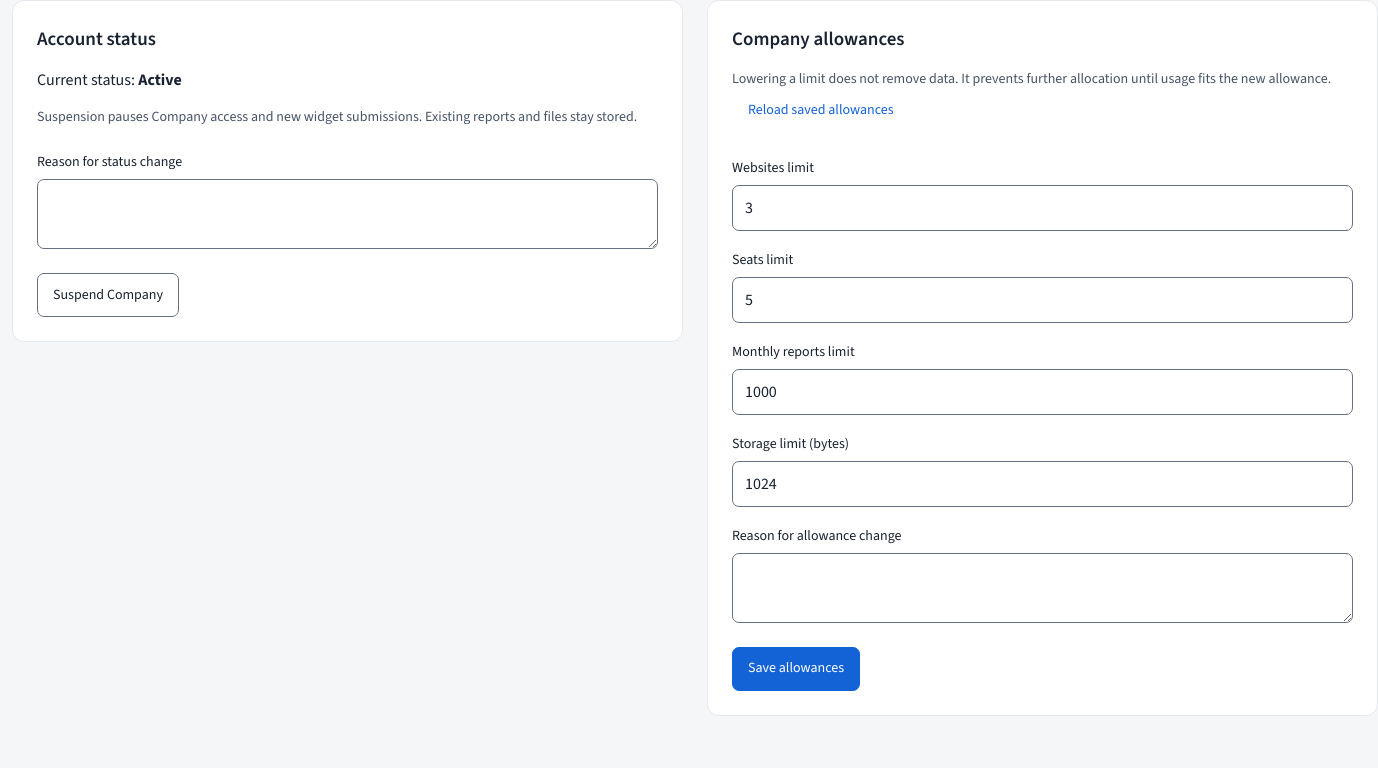
Test case: suspends and reactivates with audited reasons and server versions
Type "Abuse investigation" into the text box labelled "Reason for status change".
click(348, 214); type("Abuse investigation")  # box x1=37 y1=179 x2=658 y2=249
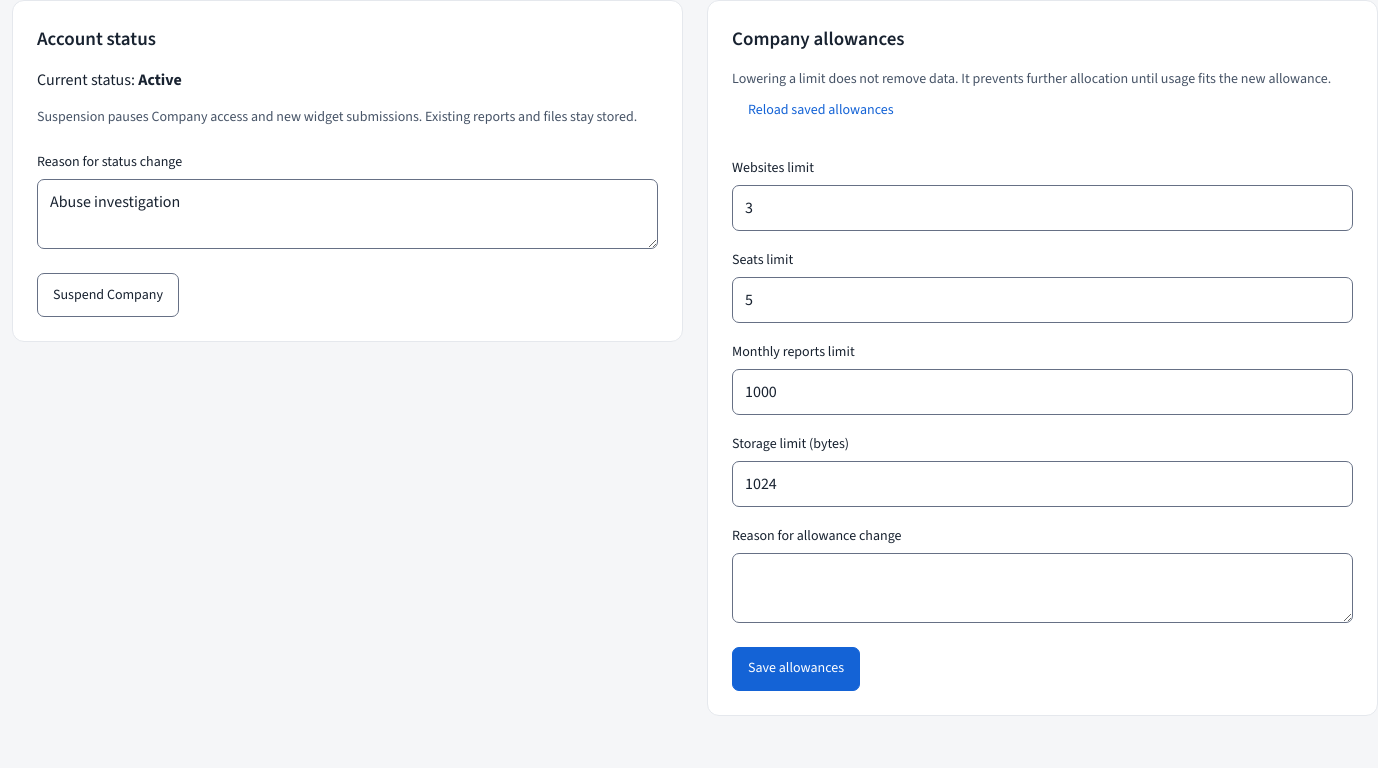
Click the button "Suspend Company".
click(108, 295)  # box x1=37 y1=273 x2=179 y2=317
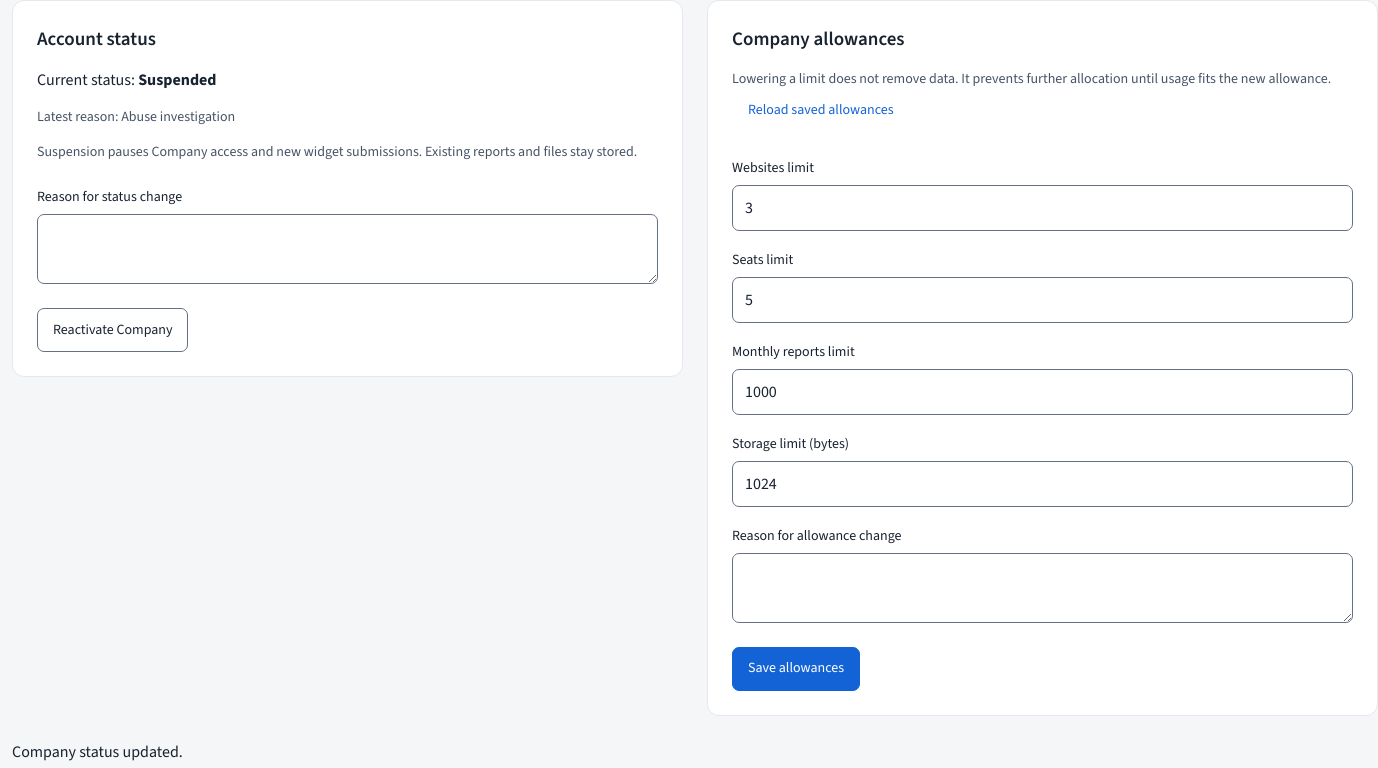
Expected: the text "Company status updated." is shown, x1=12 y1=740 x2=183 y2=762
Type "Resolved" into the text box labelled "Reason for status change".
click(348, 249); type("Resolved")  # box x1=37 y1=214 x2=658 y2=284
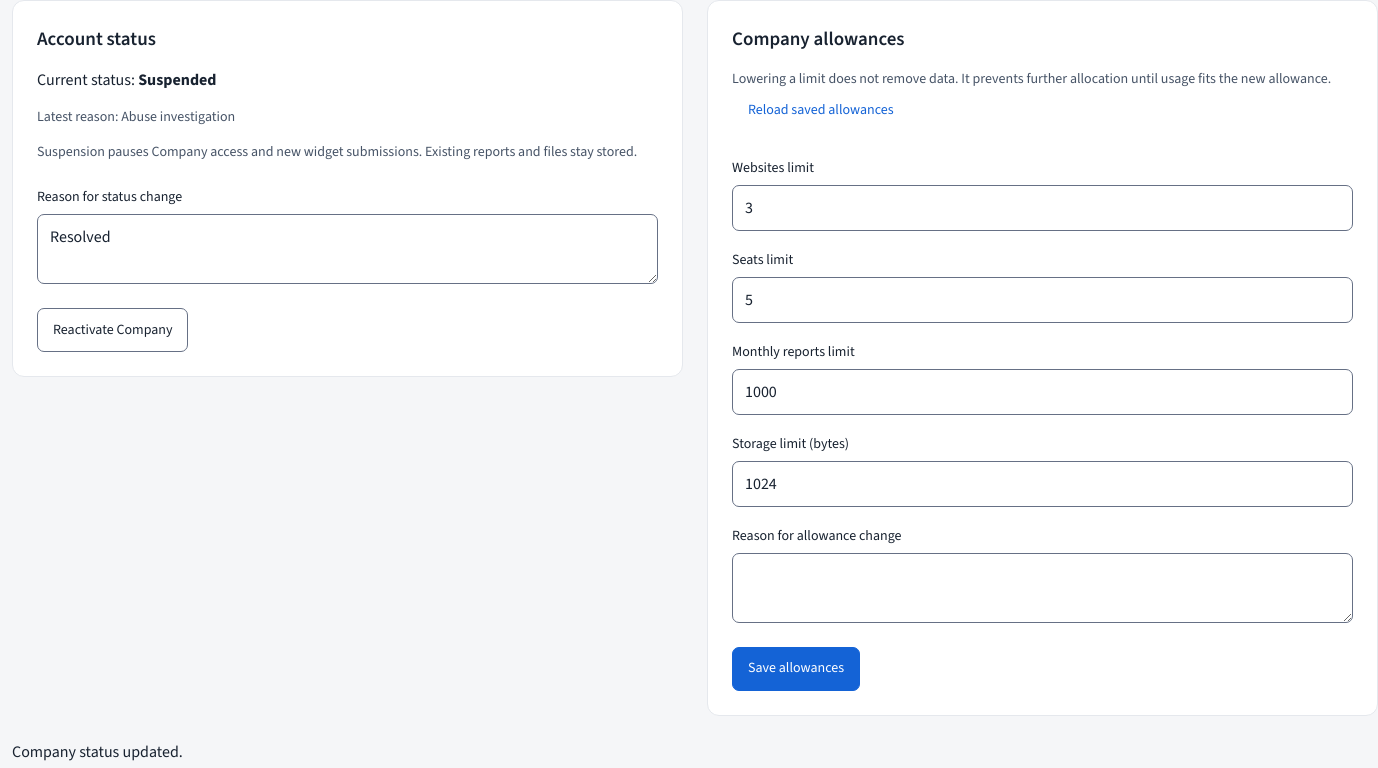
Click the button "Reactivate Company".
click(113, 330)  # box x1=37 y1=308 x2=188 y2=352
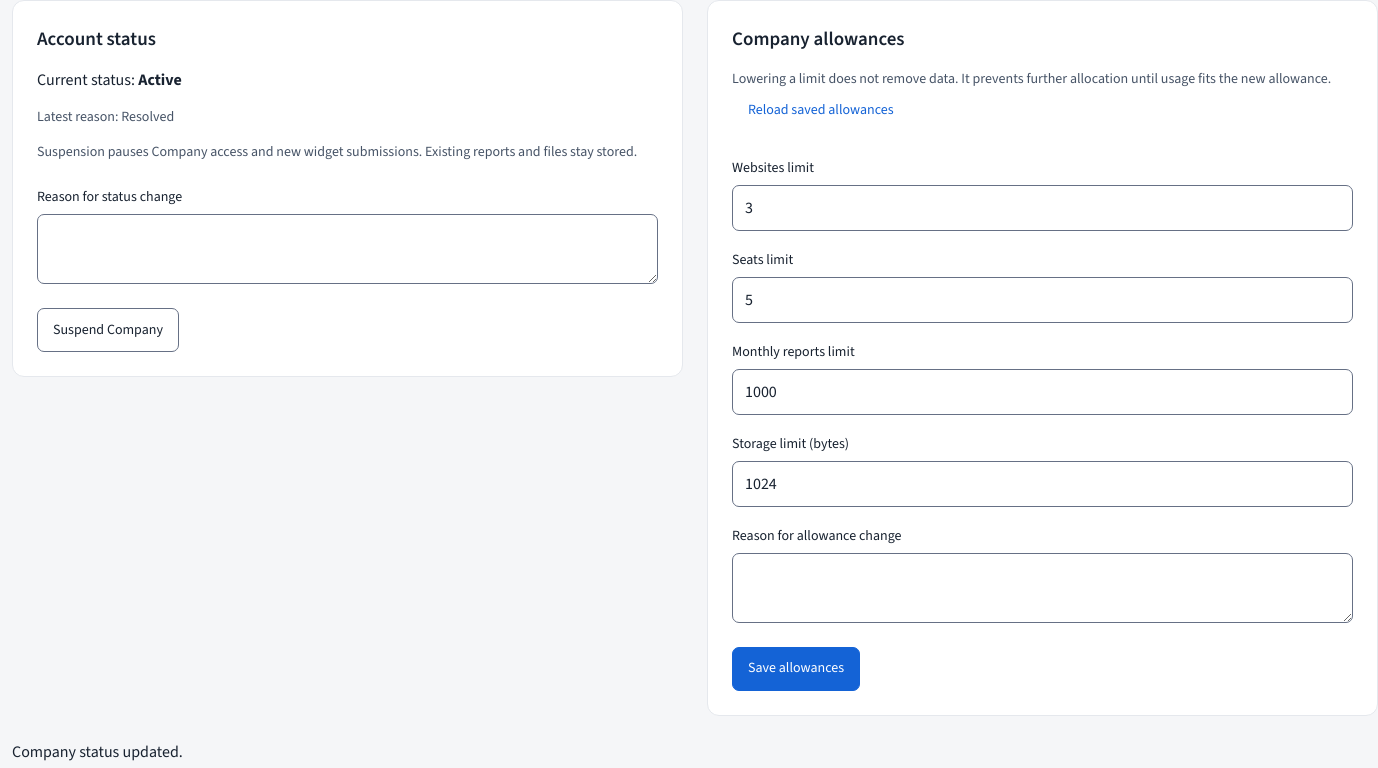
Expected: the button "Suspend Company" is shown, x1=37 y1=308 x2=179 y2=352
